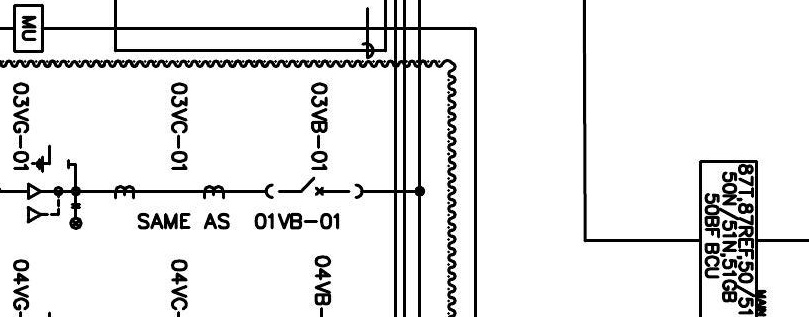22_breaker: (264, 176, 364, 199)
22_gs: (31, 143, 70, 174)
22_ll: (68, 202, 83, 230)
MU: (12, 3, 45, 54)
terminator_w_future: (26, 182, 61, 226)
